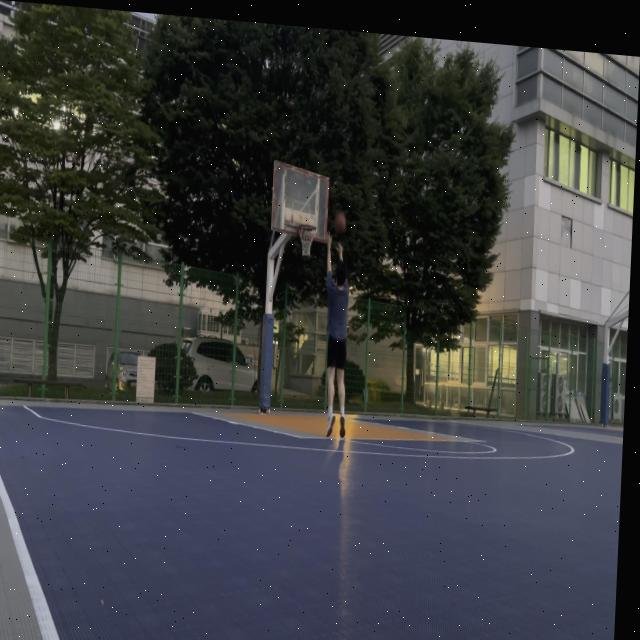basketball: (334, 210, 347, 235)
hoop: (297, 224, 317, 258)
